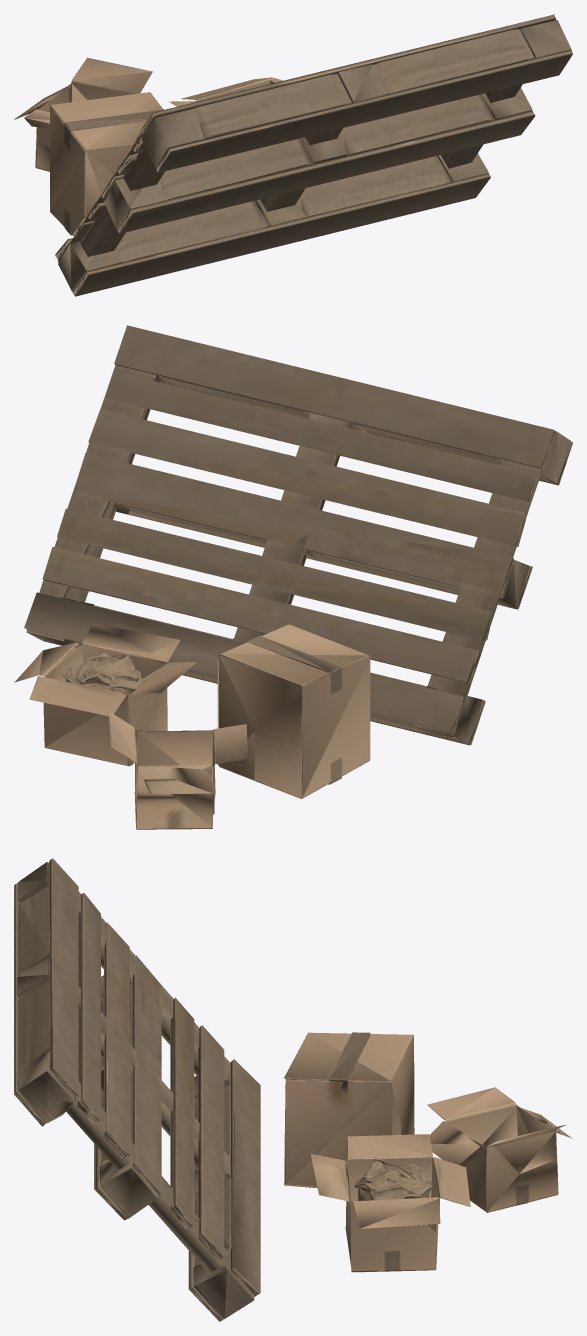
Rendered from pallet.glb.
The picture shows the model from 3 angles, top to bottom: view 1: azimuth 30°, elevation 25°; view 2: azimuth 150°, elevation 25°; view 3: azimuth 270°, elevation 25°; orthographic projection. The views are drawn at different scales.
Visible parts, largest first — view 1: Prop_pallet; view 2: Prop_pallet; view 3: Prop_pallet.
Part boxes in pixels (<box>): Prop_pallet: <box>14,14,572,296</box>; Prop_pallet: <box>14,325,572,829</box>; Prop_pallet: <box>14,858,572,1321</box>.
Size of the model in its own units: 0.7519 by 0.4318 by 0.85.
Materials: 1 (1 with a texture image).
